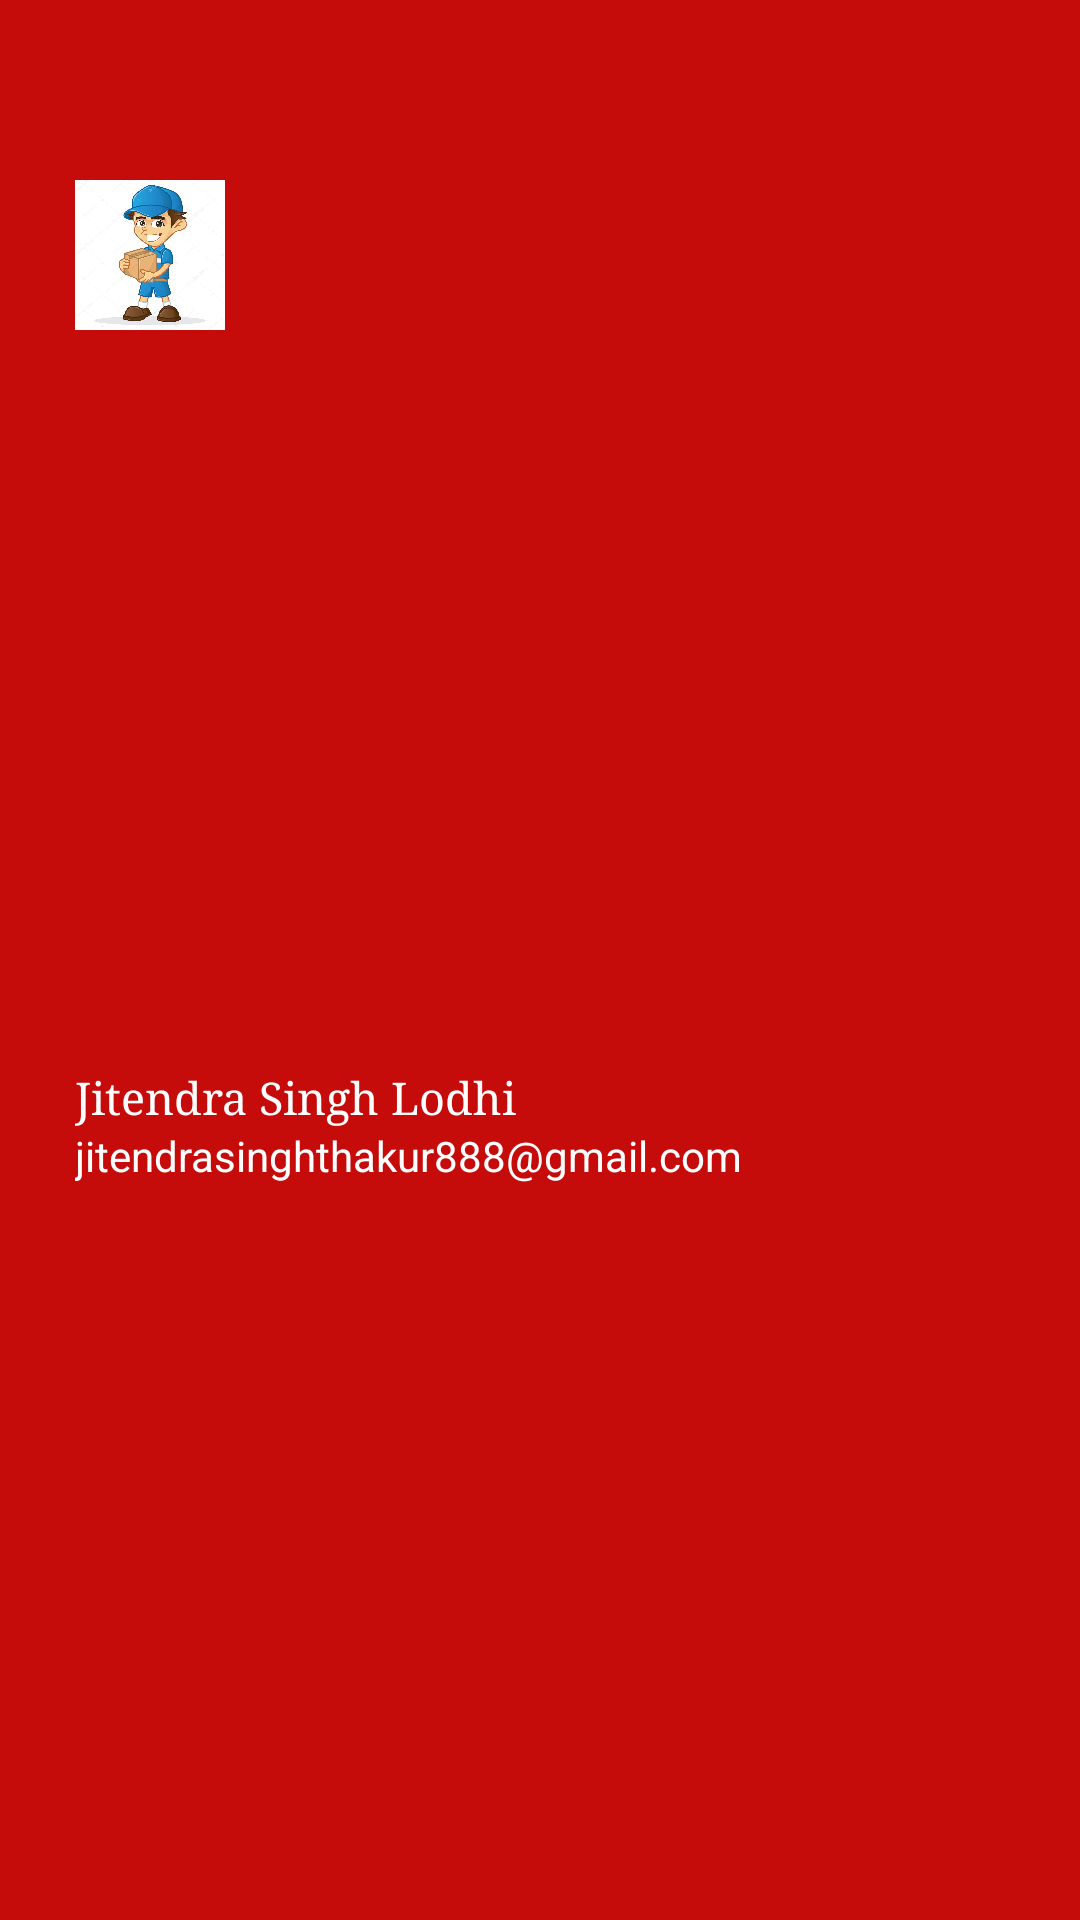

Locate icon controls on the screen. Image size 1080 × 1920, boxes as [left=x1, top=y1, right=x2, bottom=y2].
deliveryman: [left=75, top=180, right=225, bottom=330]
